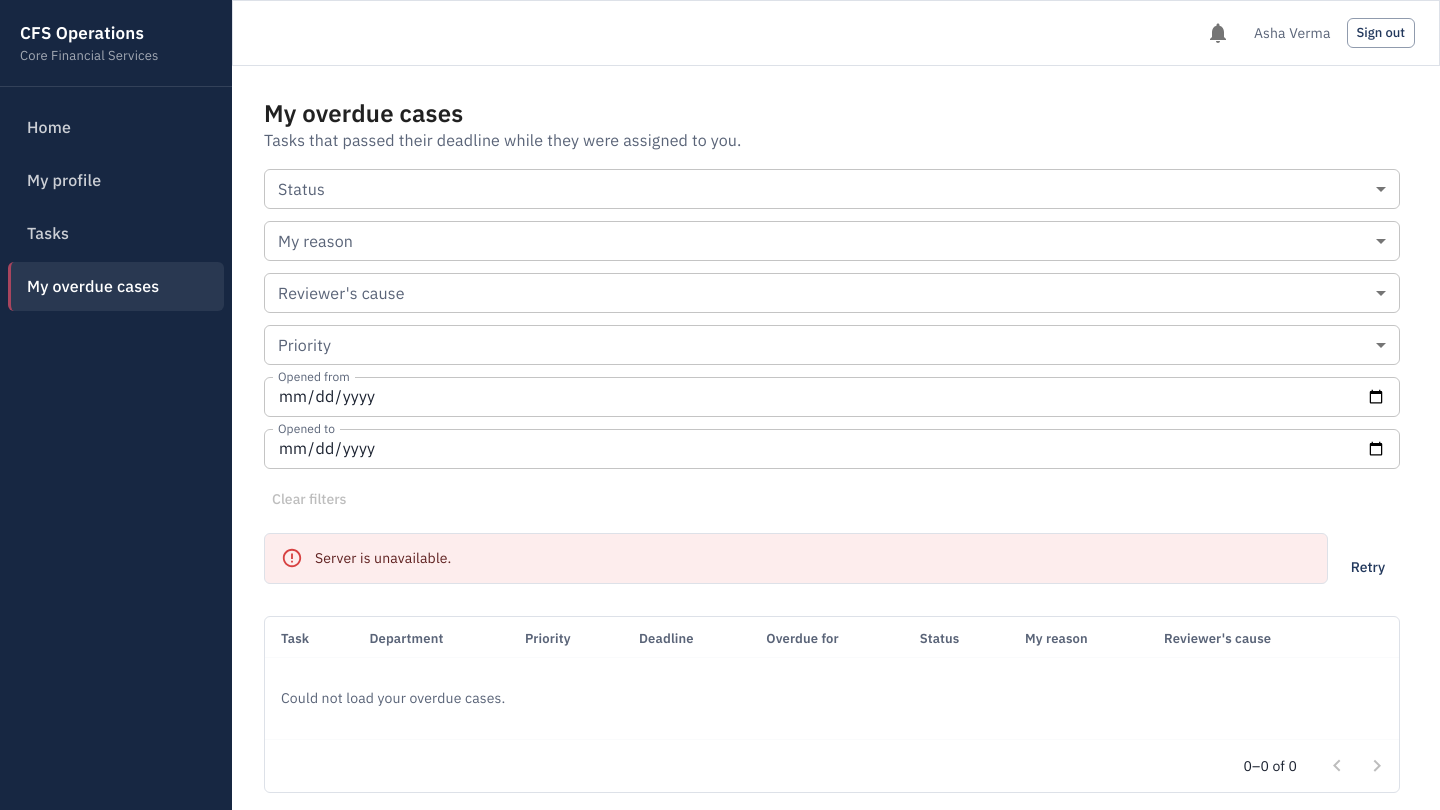
Test case: My overdue cases › shows an API error and can retry
The width and height of the screenshot is (1440, 810).
Expected: the text "Server is unavailable." is shown, [315,549,451,567]
What coordinates should you click on to do the following:
click the button "Retry"
I would click on:
 (1368, 567)
Its box is [1336,548,1400,585].
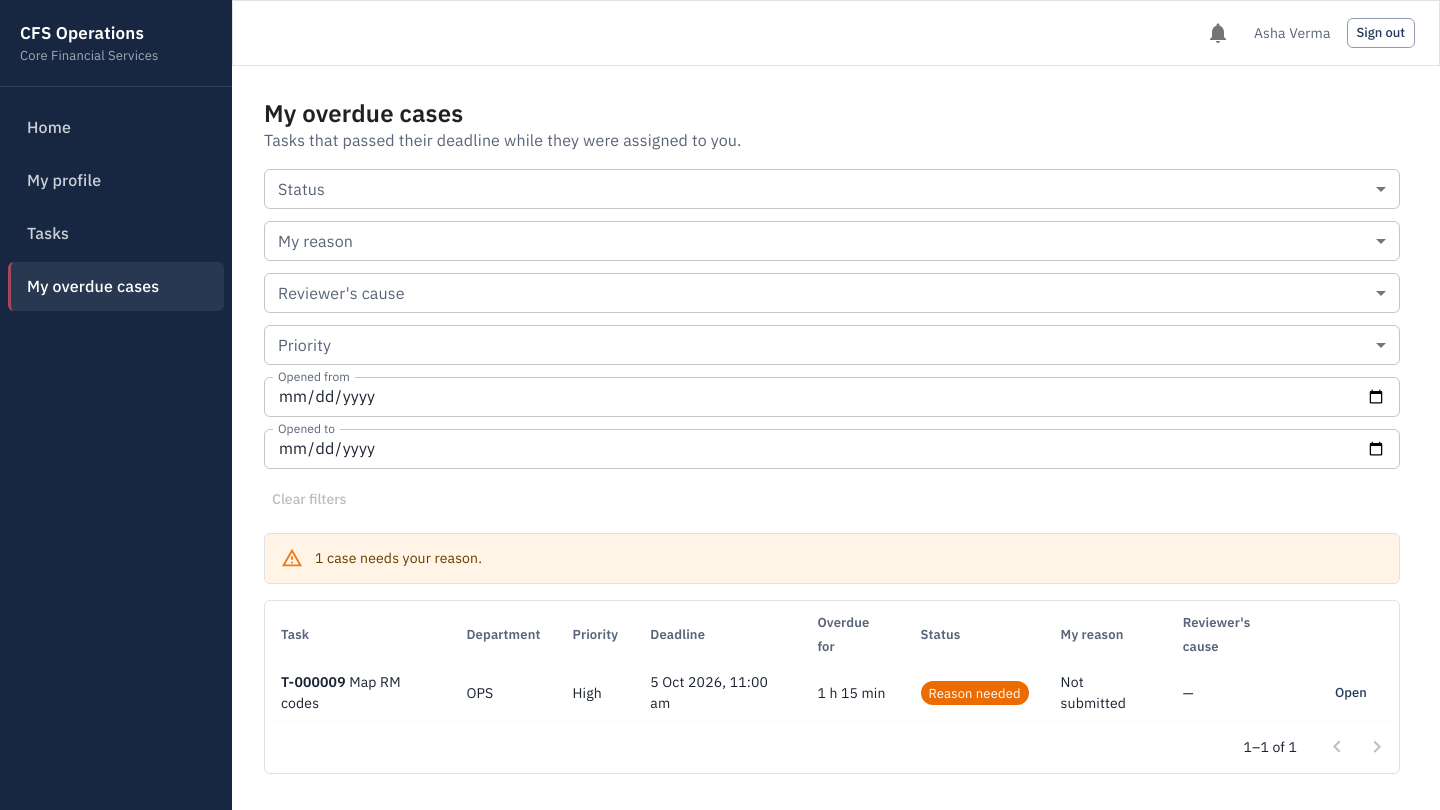
Expected: the text "T-000009" is shown, [281,673,346,691]
